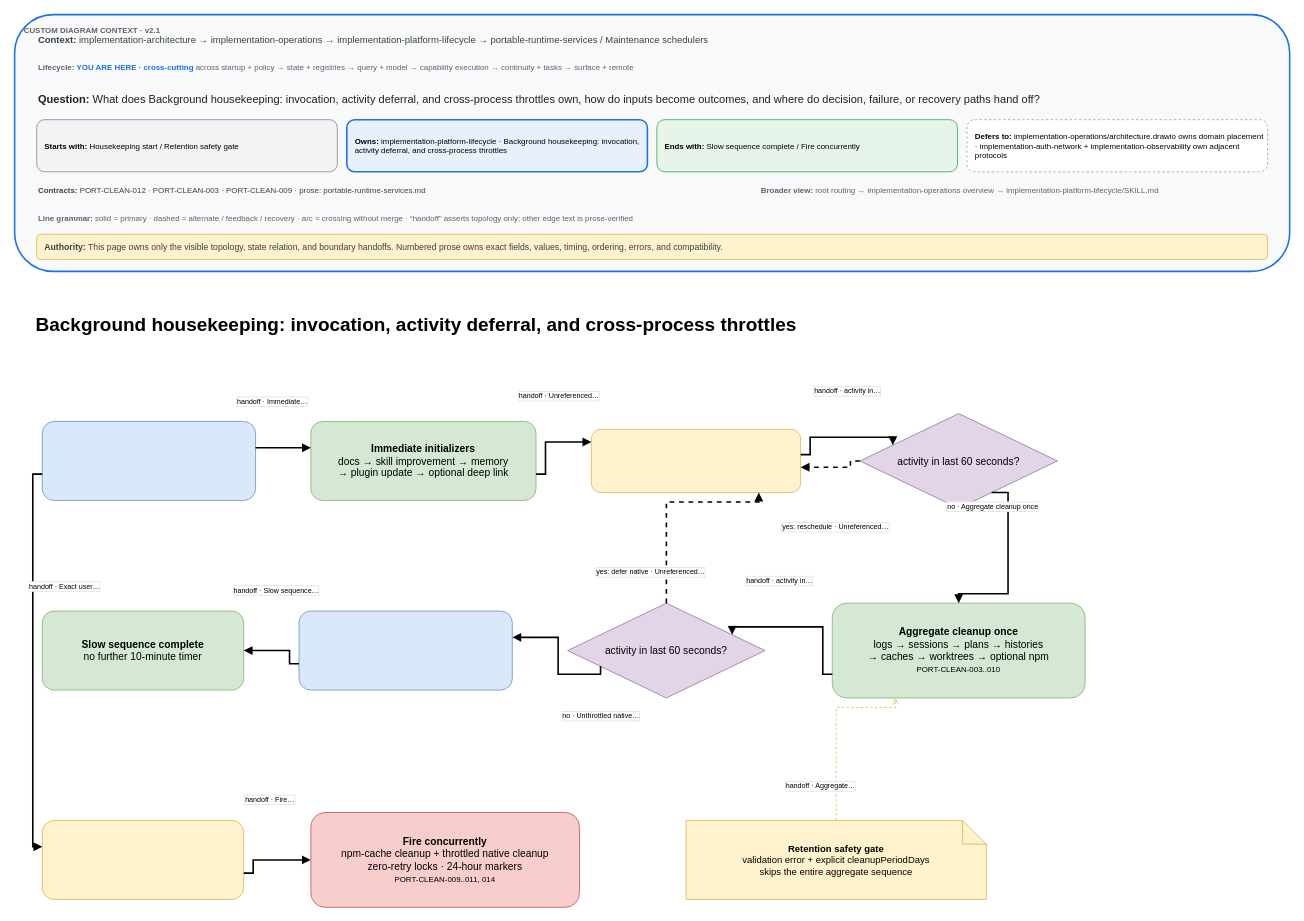
The diagram is 1304 pixels wide and 921 high, and some of its shapes have lost their labels. The shapes that lost their labels are listed below. From the top down, each one's centre as x and y in pixels, then its label:
[148,460]: Housekeeping start interactive first submit or headless bootstrap PORT-CLEAN-012
[696,461]: Unreferenced 10-minute timer
[405,650]: Unthrottled native cleanup installer-owned NINST semantics
[142,859]: Exact user type ant unreferenced 24-hour interval
